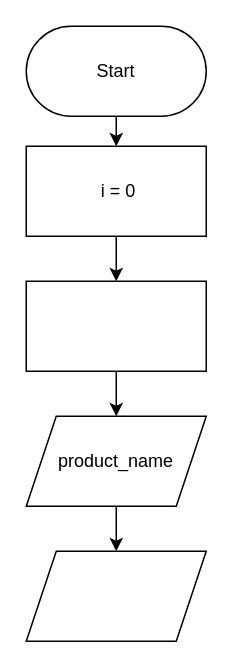
The diagram is 233 pixels wide and 668 high, and some of its shapes have lost their labels. Each missing label, with the centre of its shape:
"quantity" goes at [115,595].
"show list of product" goes at [115,325].
